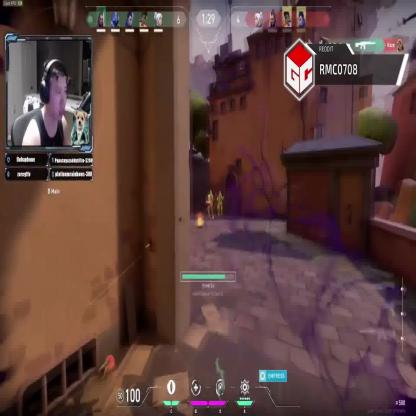enemy: (207, 188, 214, 218), (217, 191, 224, 217)
enemy_head: (210, 189, 212, 195), (219, 191, 221, 195)
